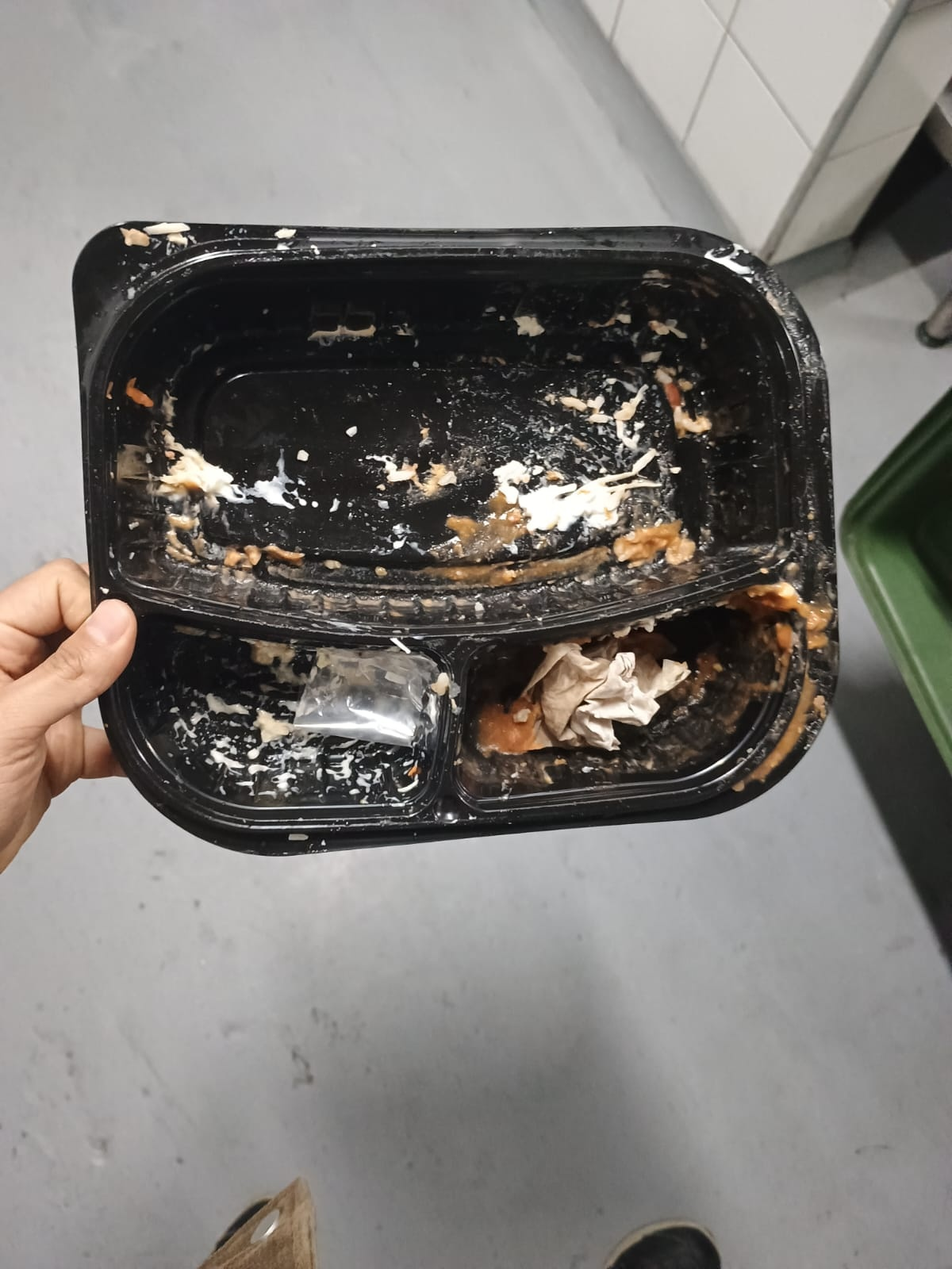Ordinario: (74, 221, 841, 858)
